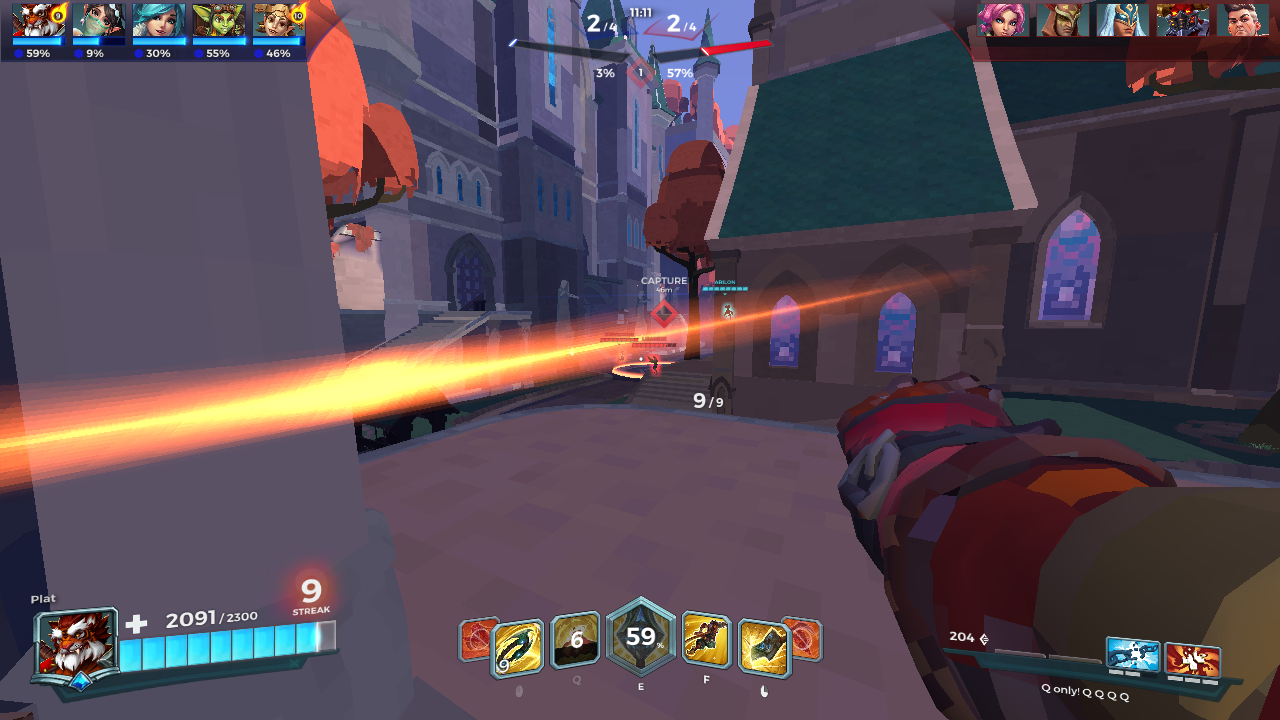model: (644, 353, 661, 375), (614, 348, 628, 362)
